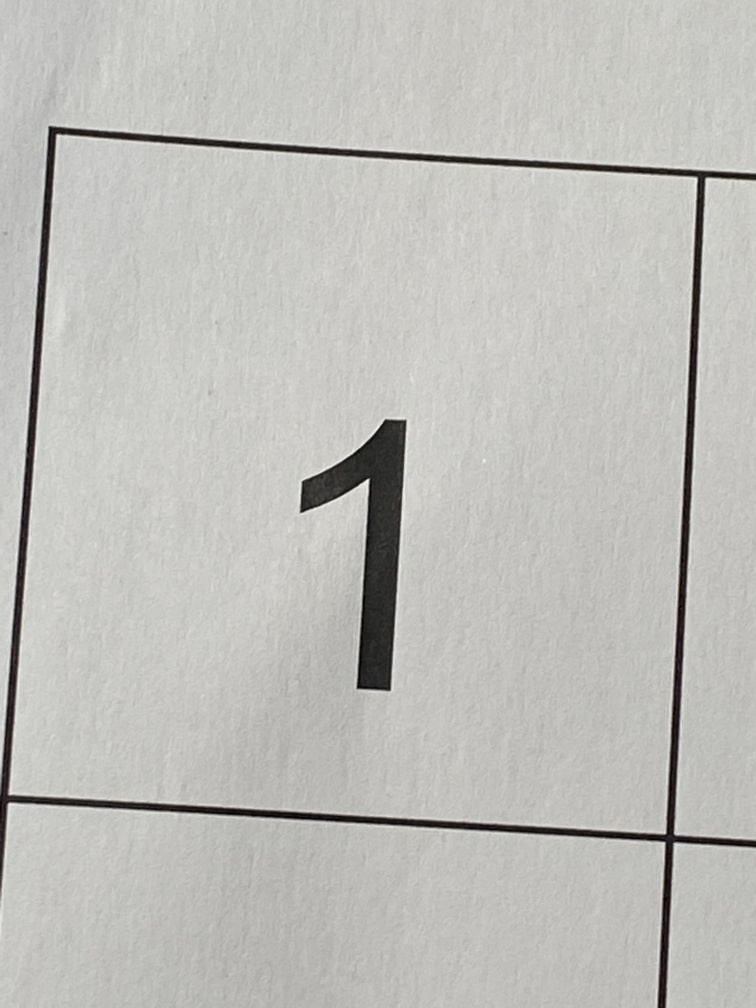one: (256, 369, 480, 751)
